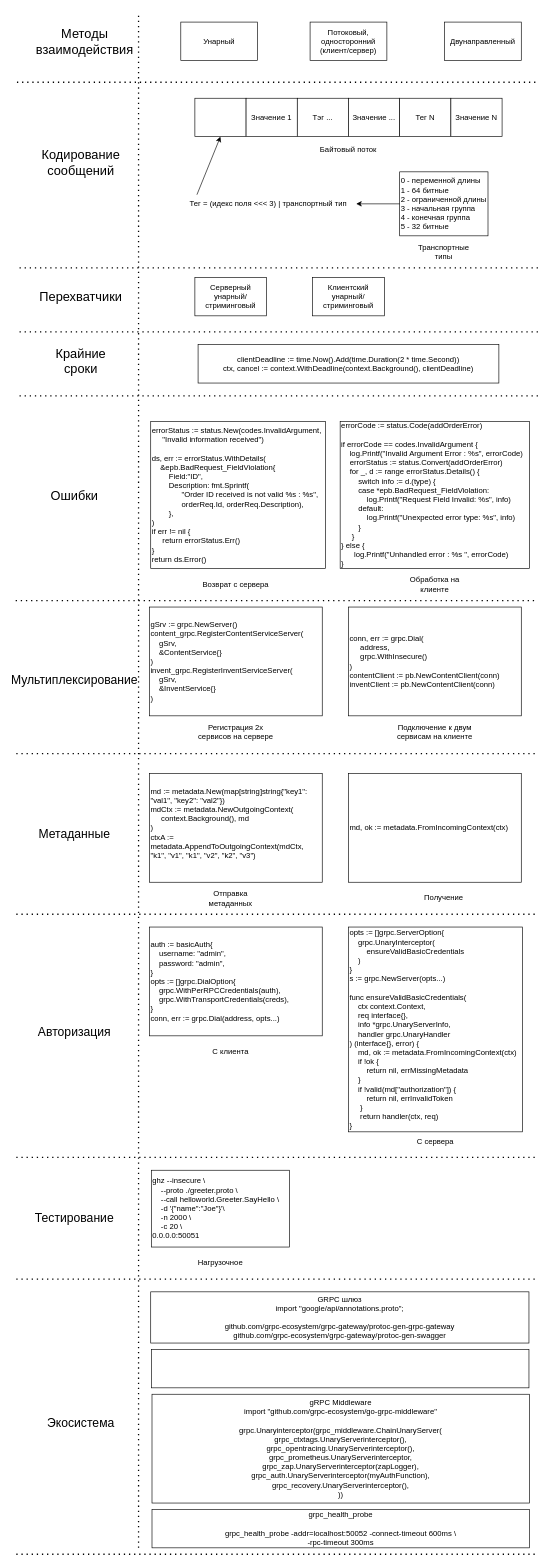
Image size: 550x1566. Some labels were removed from this diagram. The centre of each missing label's shape, as x and y in pixels:
"Протокол отражения gRPC-сервера google.golang.org/grpc/reflection" belongs at (x=340, y=1368).
"Тег 1" belongs at (x=220, y=117).
